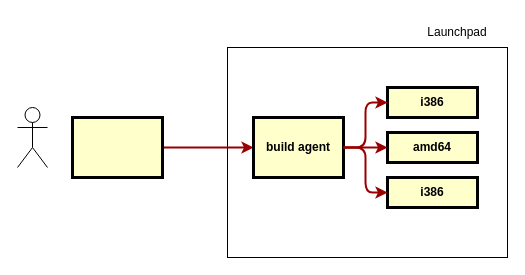
This 525x275 diagram has some shape labels left out. Here are the shapes that lost their labels. From the top down, the centre of each, then its label:
At [32,137]: "dev".
At [117,147]: "source code .tar.gz".
